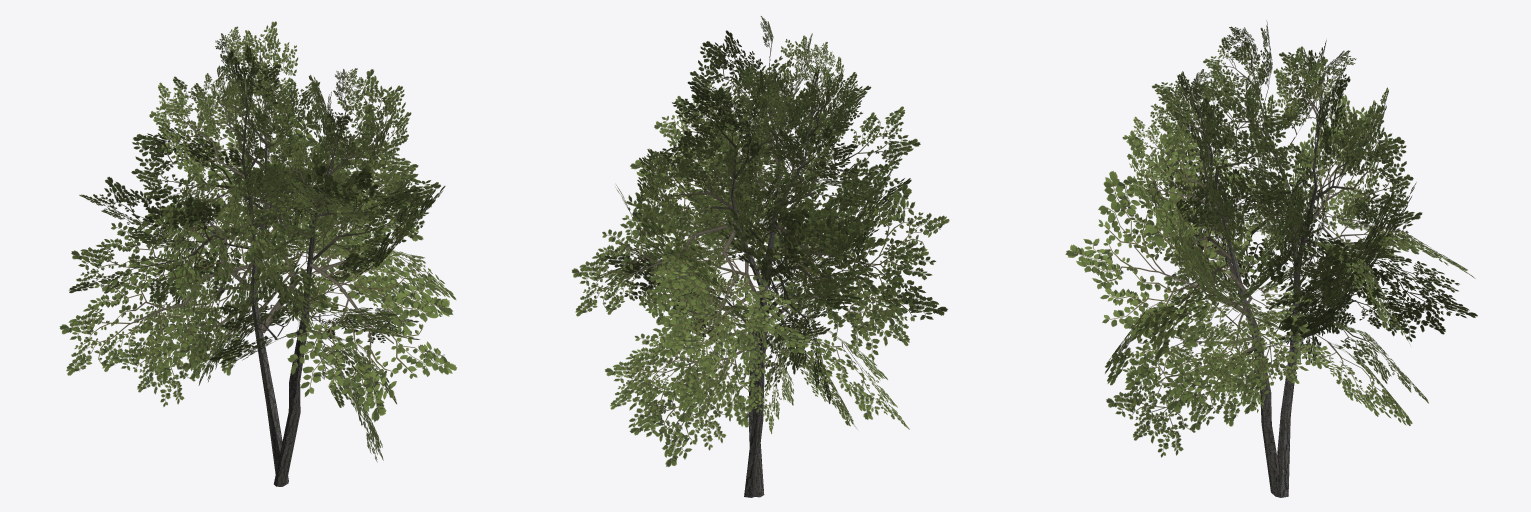
The model's file is Tree2.gltf.
The picture shows the model from 3 angles, left to right: view 1: azimuth 30°, elevation 25°; view 2: azimuth 150°, elevation 25°; view 3: azimuth 270°, elevation 25°; orthographic projection.
Visible parts, largest first — view 1: Tree-01-2_1; view 2: Tree-01-2_1; view 3: Tree-01-2_1.
Part boxes in pixels (box(x1,y1,x2,y2)): Tree-01-2_1: box(59, 21, 456, 486); Tree-01-2_1: box(572, 16, 949, 497); Tree-01-2_1: box(1065, 20, 1477, 497).
Size of the model in its own units: 197 by 226 by 221.
6 materials, 6 textured.
